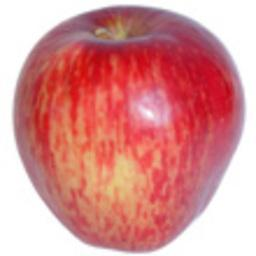apple: (13, 7, 244, 252)
